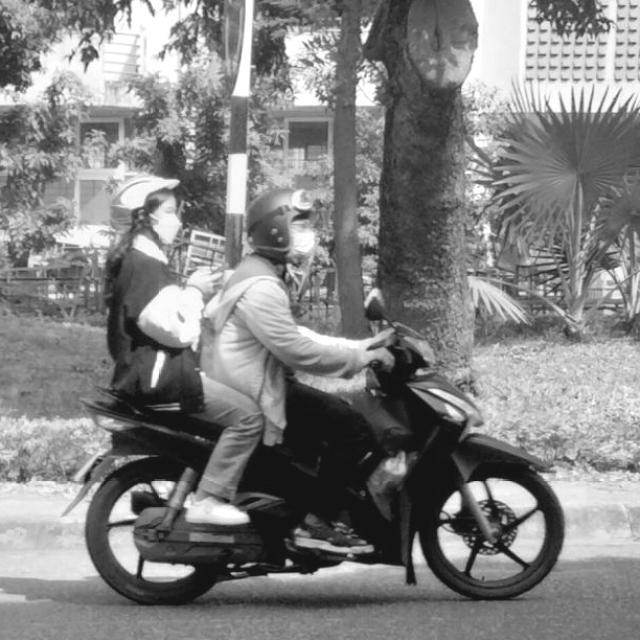Helmet: (246, 187, 319, 261), (108, 176, 184, 247)
